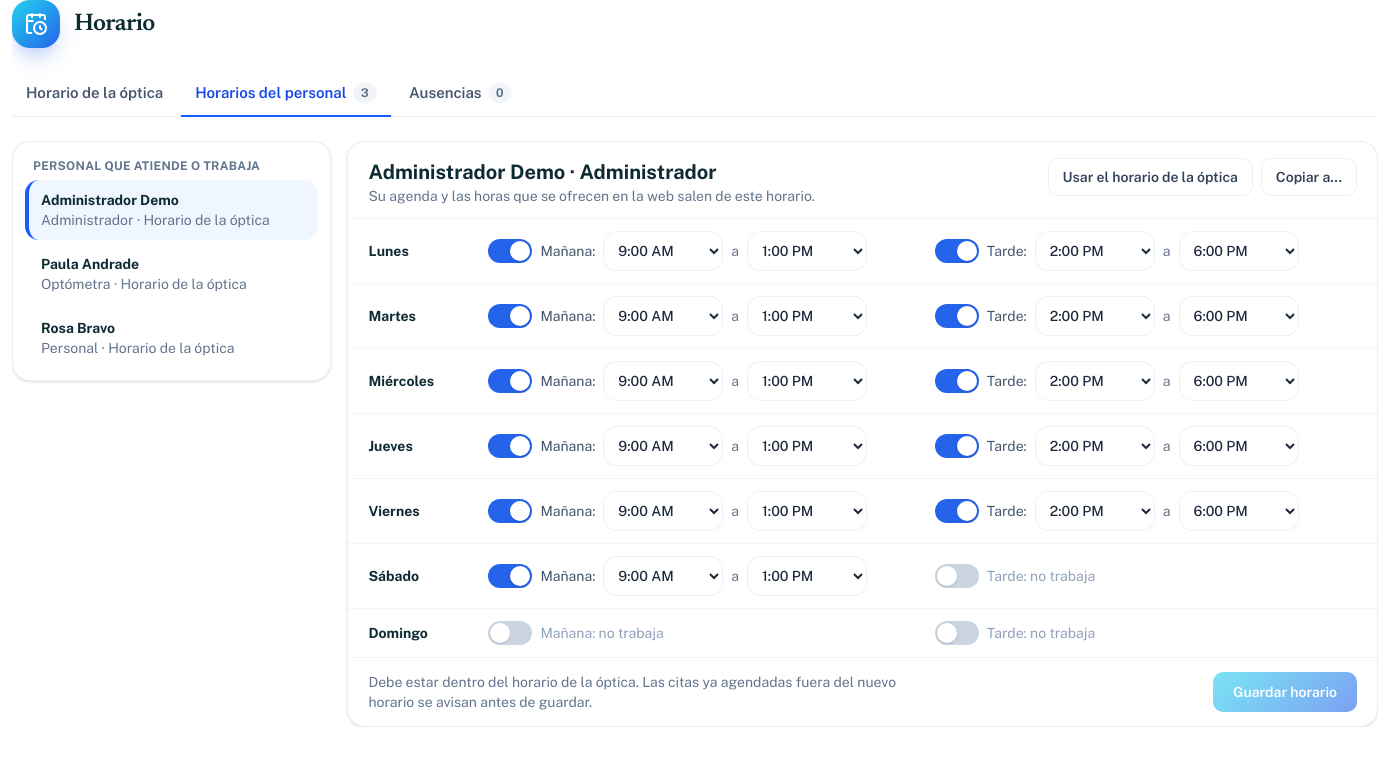
it: Horario del administrador › Horarios del personal › un turno fuera del horario de la óptica no se guarda y dice cuál es
The width and height of the screenshot is (1378, 768).
Click the text "Rosa Bravo".
click(78, 328)  # box [41,320,115,336]
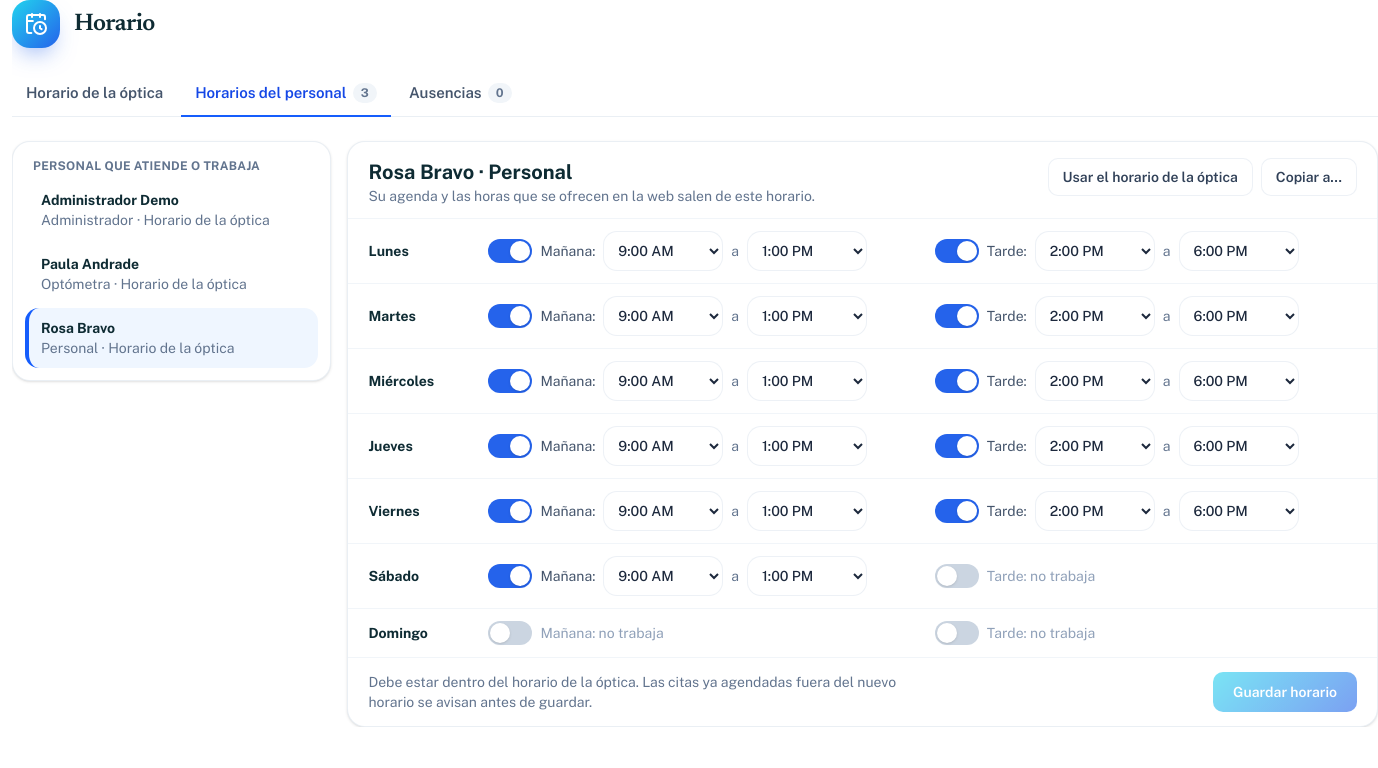
Expected: the element named "Horario de Rosa Bravo" is shown, [348,140,1377,726]
Select "8:00 AM" in the dropdown named "Lunes, mañana: desde" at {"x": 663, "y": 250}, box [603,230,723,270]
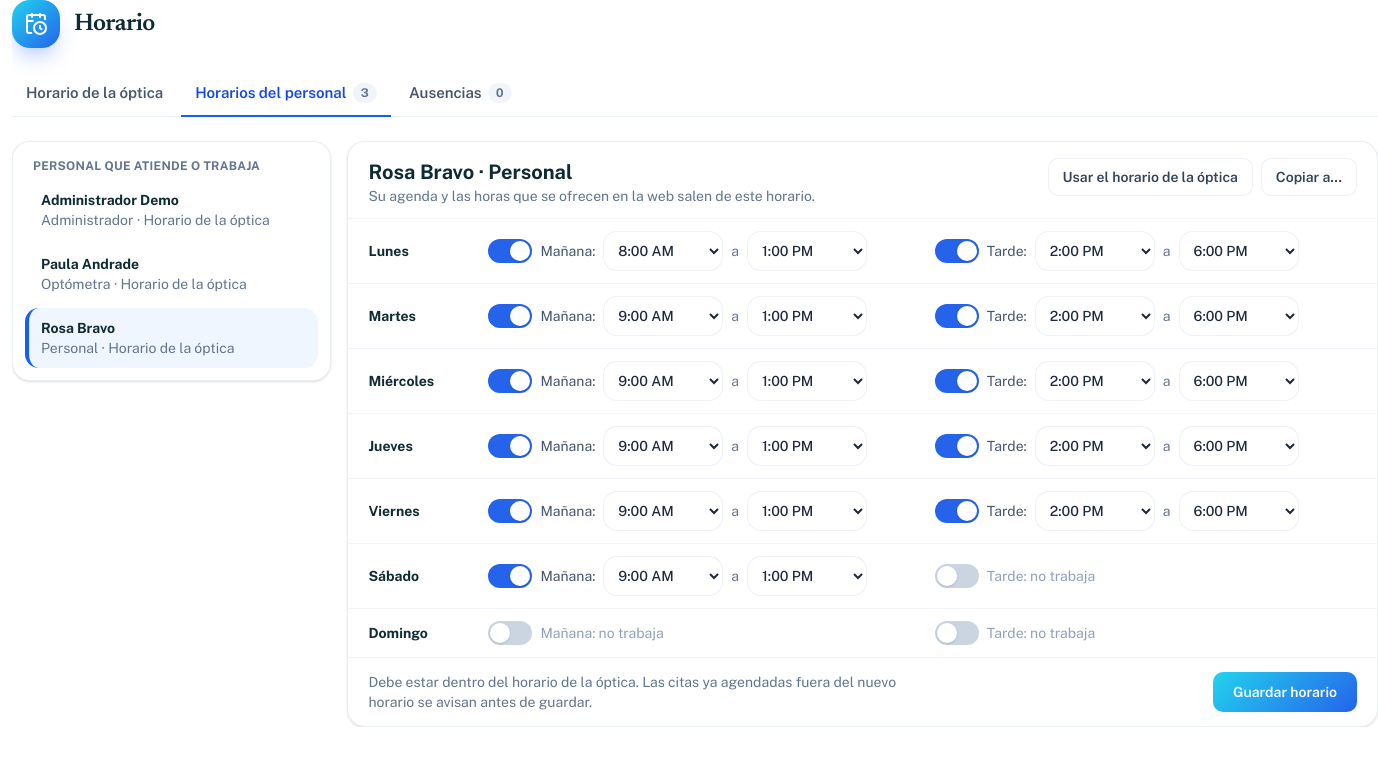
Click the button "Guardar horario".
click(1285, 692)  # box [1213,672,1357,712]
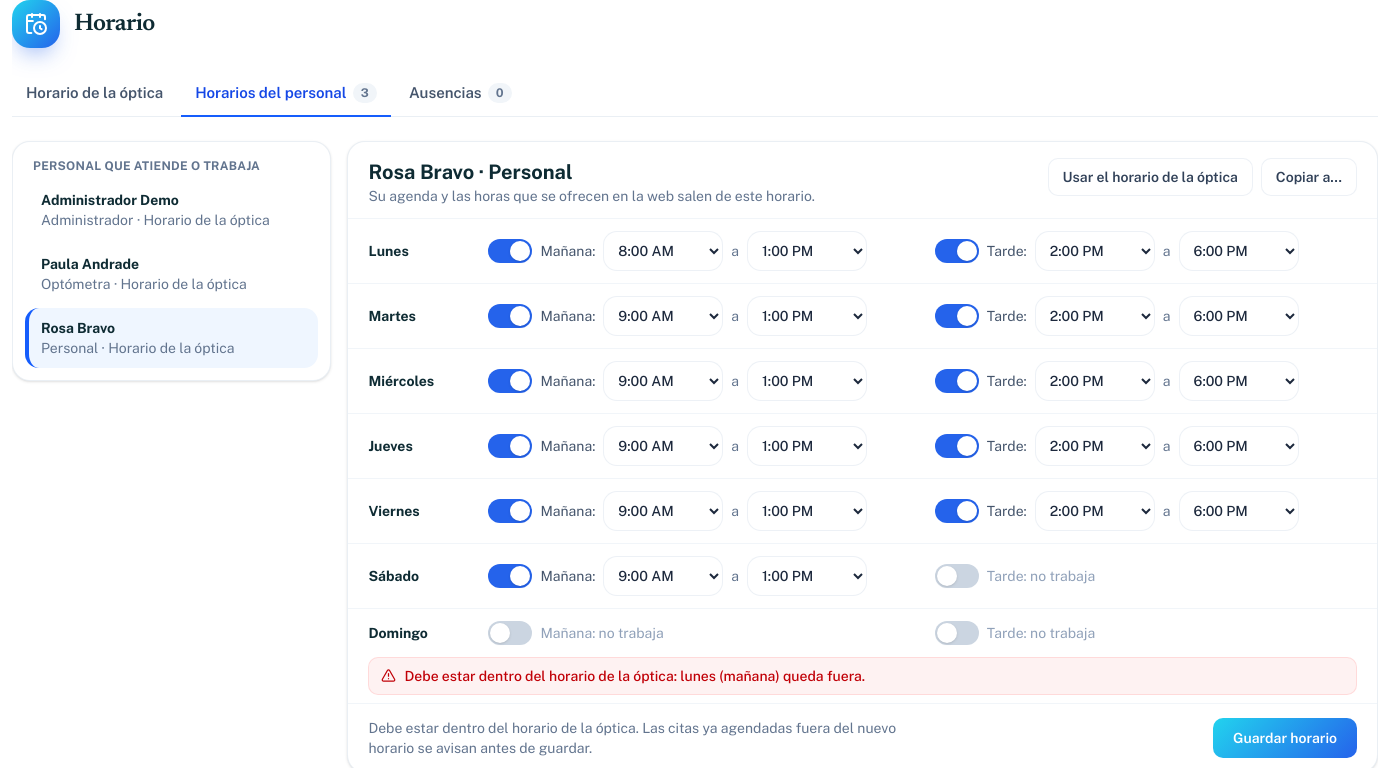
Expected: the message reads "Debe estar dentro del horario de la óptica: lunes (mañana) queda fuera.", [404,668,865,684]
